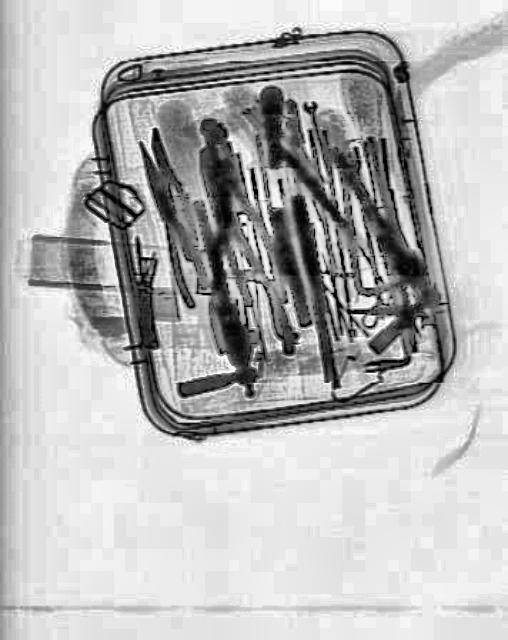Pliers: (172, 137, 294, 370), (193, 128, 289, 322), (135, 124, 214, 310)
Wrench: (299, 96, 335, 170)
